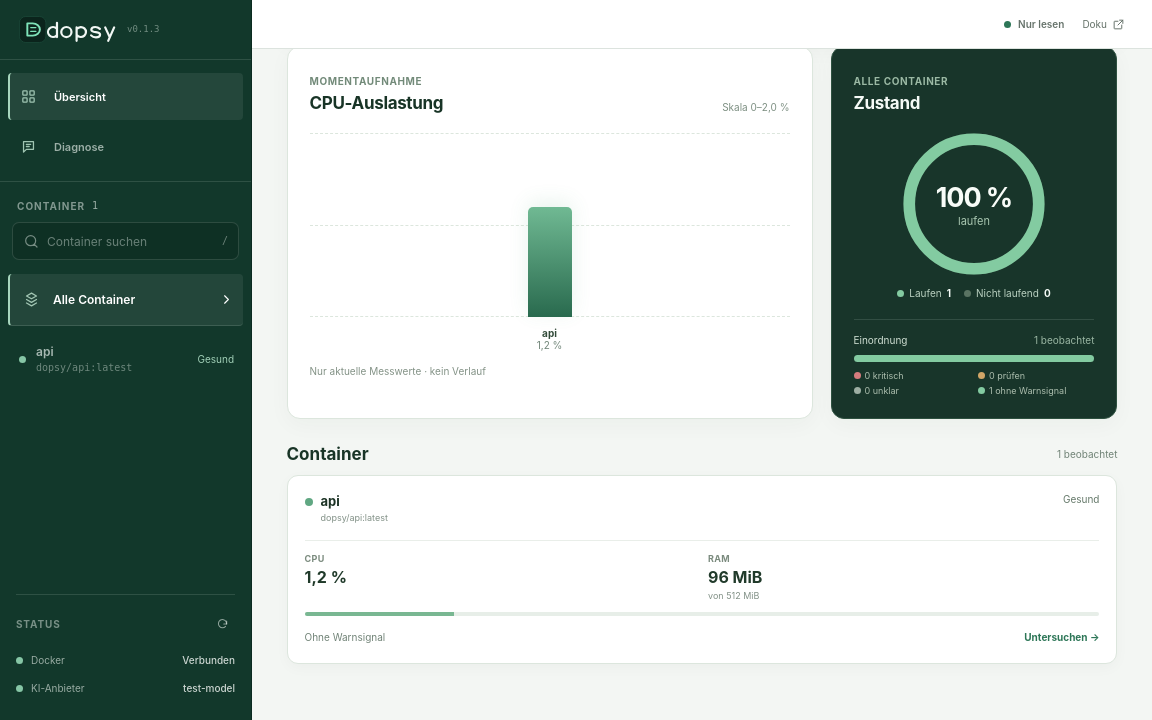
it: Dopsy app › shows retained event facts with the incomplete-history warning
This screenshot has width=1152, height=720.
(page scrolled)
Click the button with aria-label "api untersuchen" at [1062, 637], box x1=1024 y1=628 x2=1100 y2=646
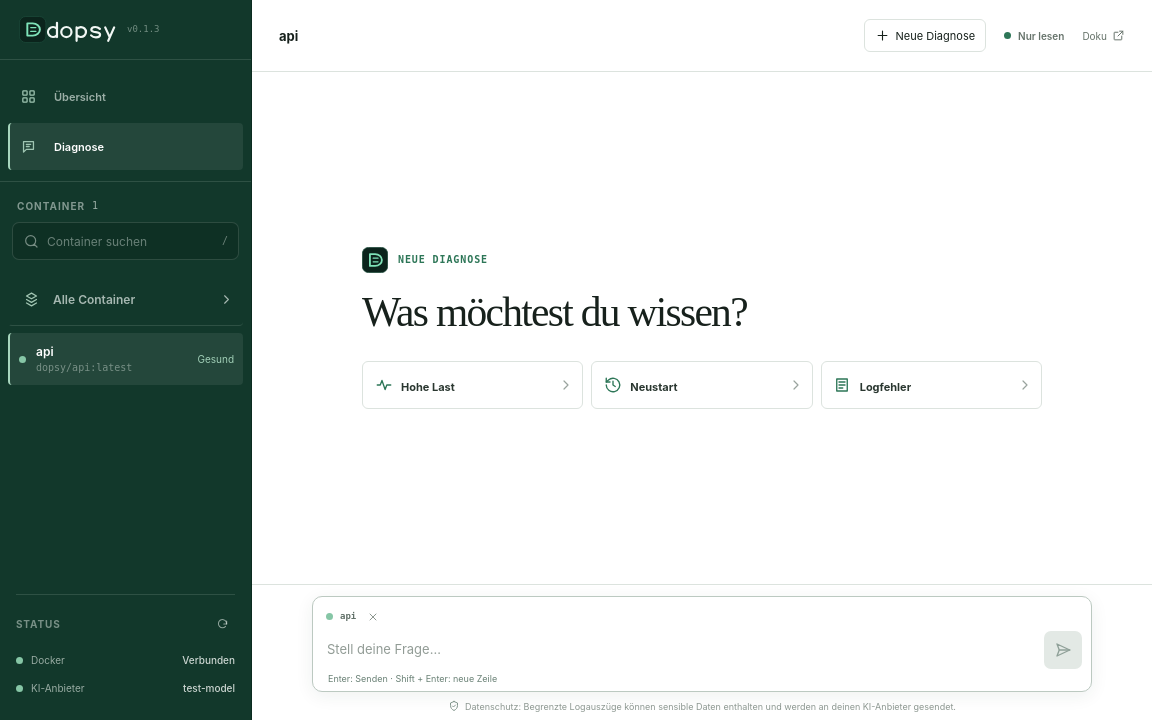
Type "What happened?" into the text box named "Dopsy fragen" at [680, 650], box x1=327 y1=630 x2=1034 y2=670
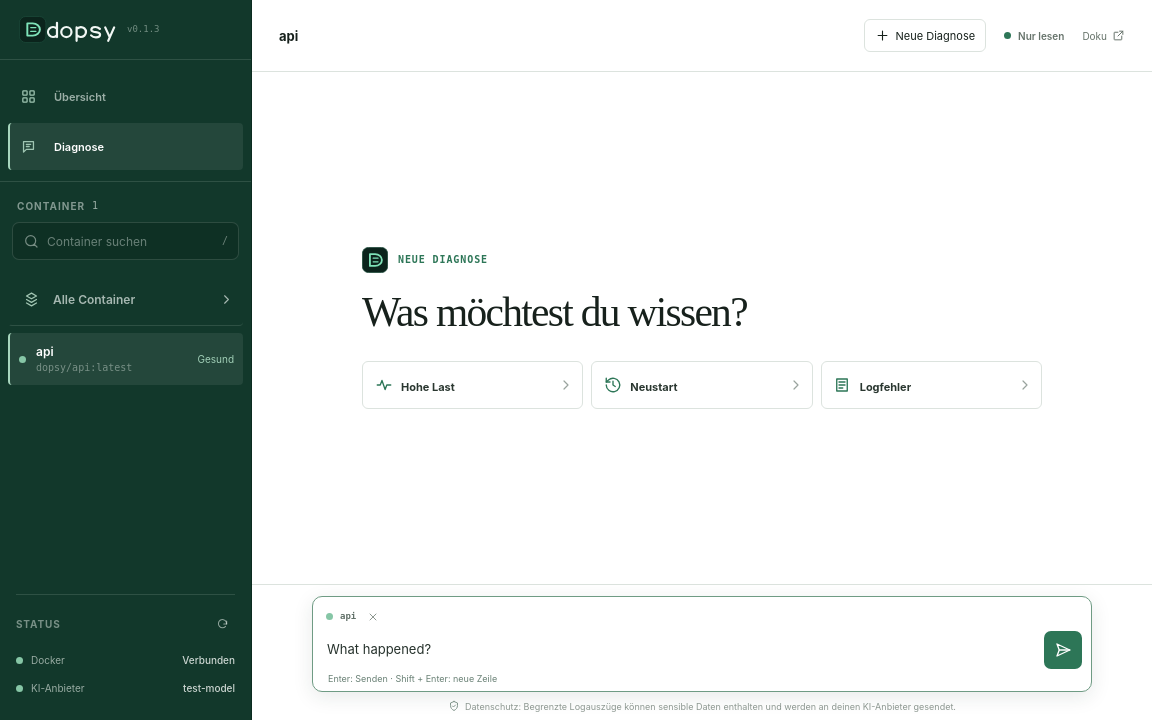
Click the button named "Frage senden" at [1063, 650], box x1=1044 y1=631 x2=1082 y2=669
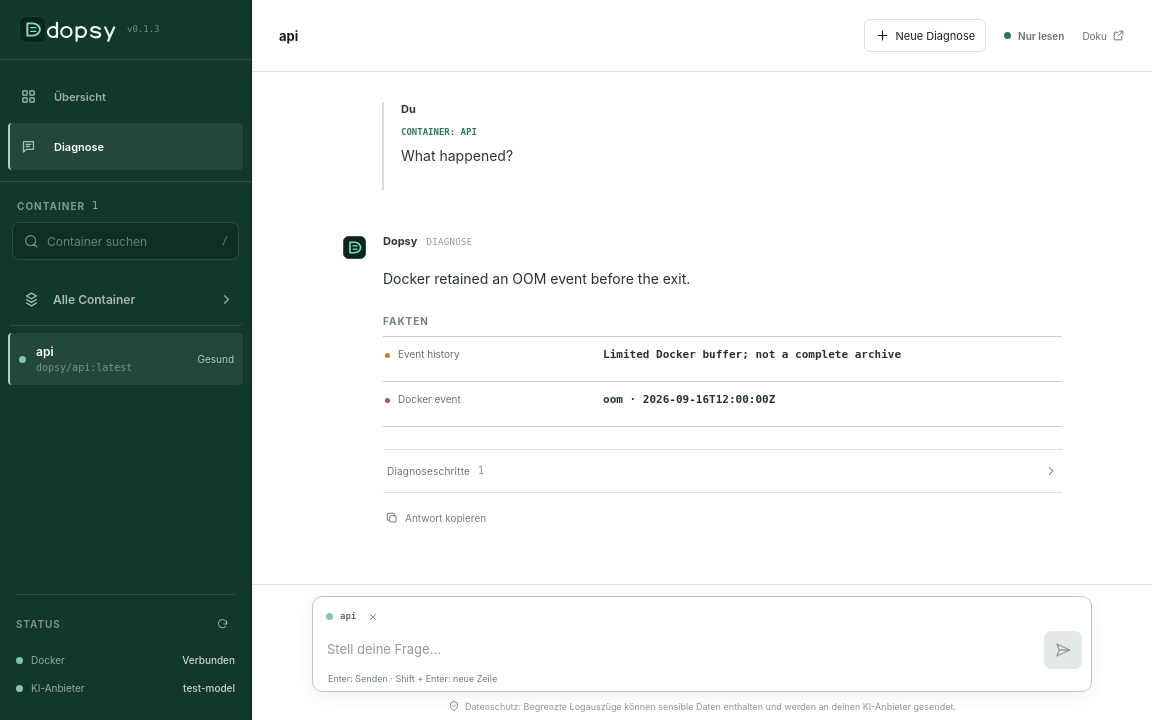
Now the text "oom · 2026-09-16T12:00:00Z" is shown, box x1=603 y1=393 x2=775 y2=406
Now the text "Limited Docker buffer; not a complete archive" is shown, box x1=603 y1=348 x2=901 y2=361
Click the button "Diagnoseschritte 1" at [429, 471], box x1=383 y1=450 x2=1062 y2=492
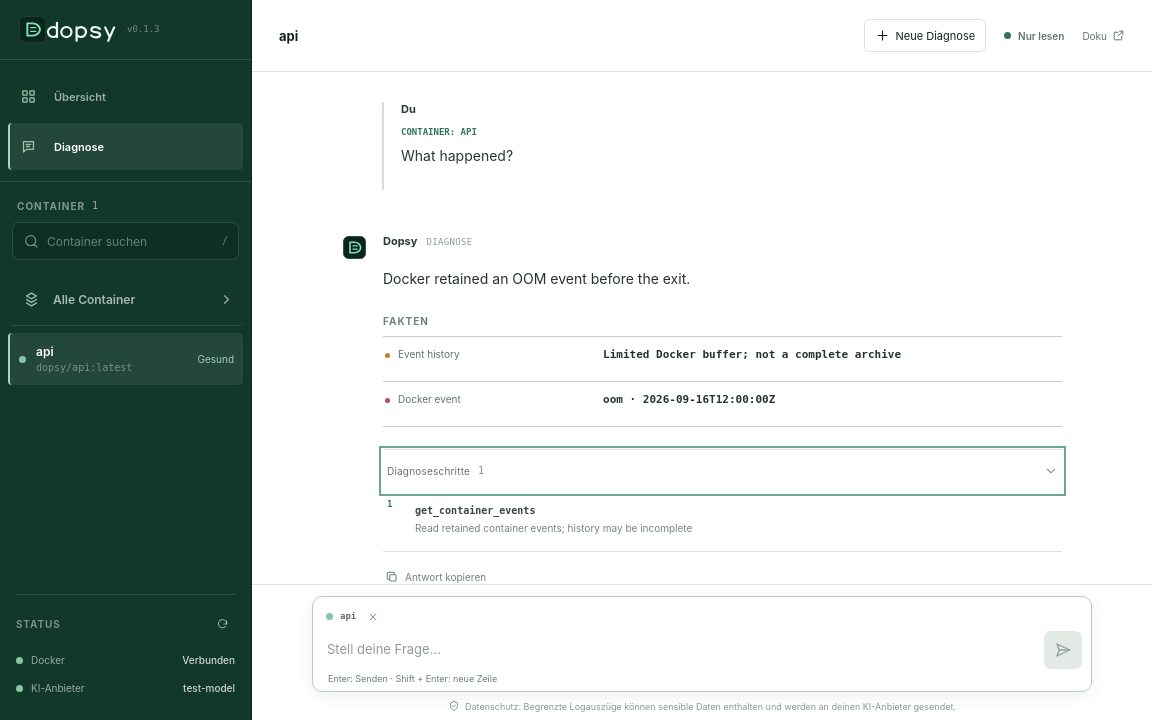
Now the text "get_container_events" is shown, box x1=415 y1=505 x2=535 y2=516
